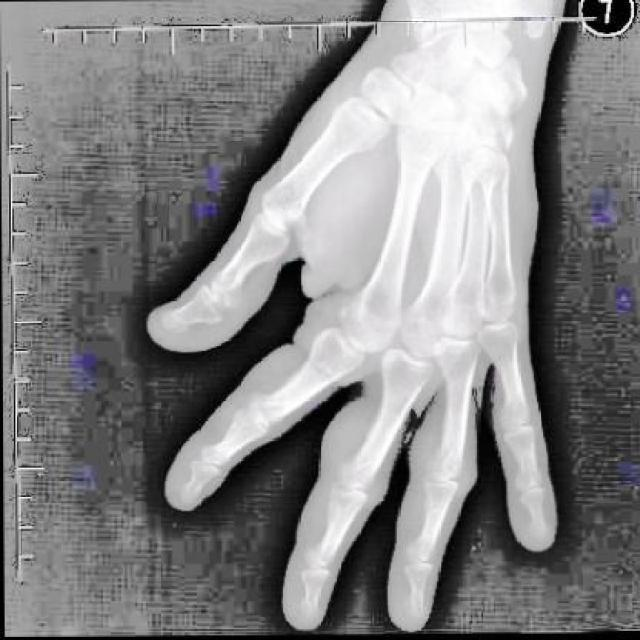Fracture: (220, 286, 245, 316)
